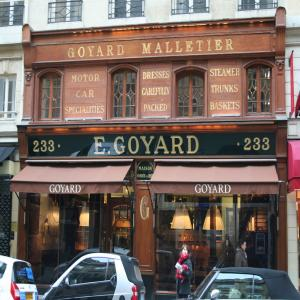Vehicle-registration-plate: (25, 293, 34, 300), (142, 295, 145, 300)
